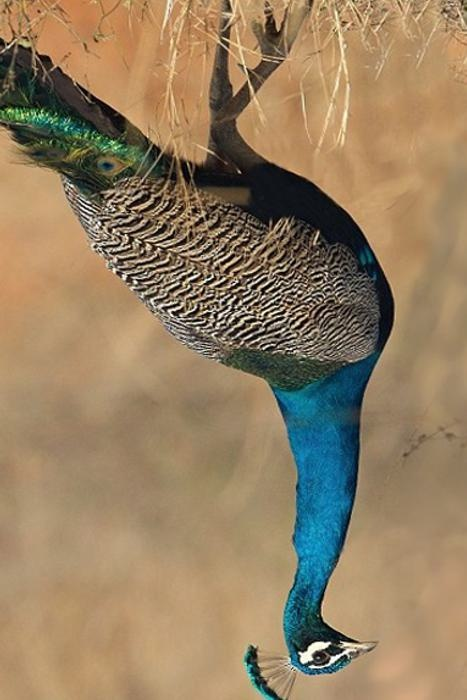peacock: (11, 25, 425, 700)
